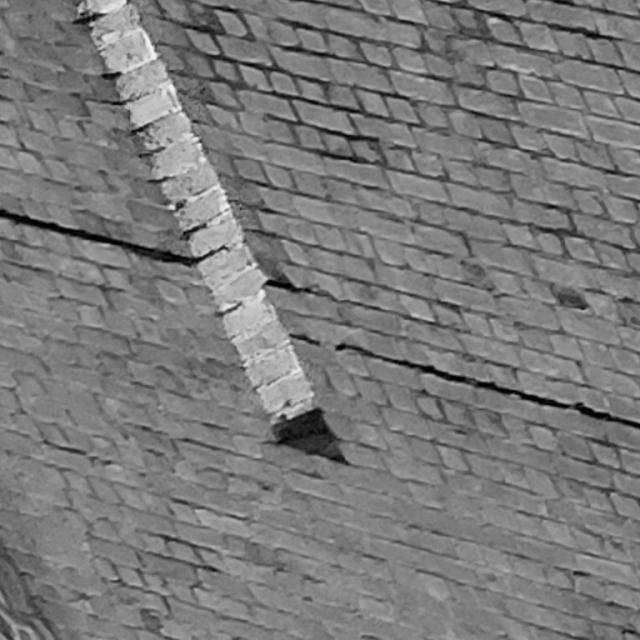crack: (290, 333, 640, 427), (1, 208, 195, 264), (264, 279, 311, 293)
